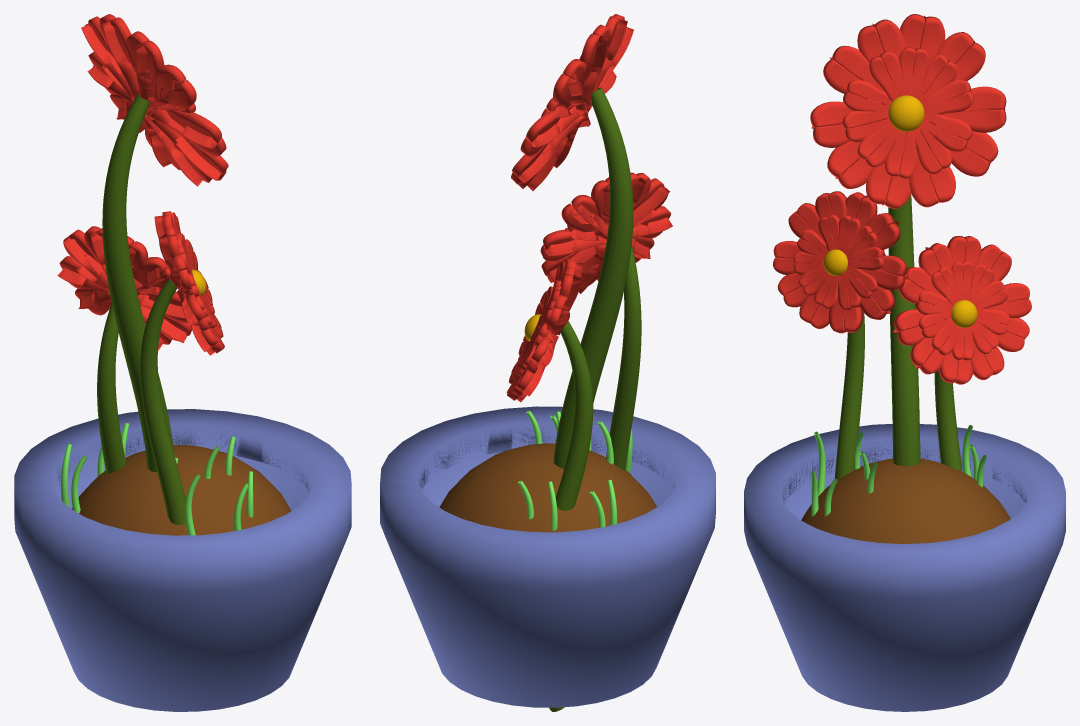
File: Otoño2 1.fbx
3 views of the same model, side by side, from view 1: azimuth 30°, elevation 25°; view 2: azimuth 150°, elevation 25°; view 3: azimuth 270°, elevation 25° (orthographic). The views are drawn at different scales.
Visible parts, largest first — view 1: Sphere.009; view 2: Sphere.009; view 3: Sphere.009.
Part boxes in pixels (left/top/right/bottom): Sphere.009: left=14, top=14, right=351, bottom=711; Sphere.009: left=380, top=14, right=715, bottom=711; Sphere.009: left=744, top=14, right=1065, bottom=711.
Size of the model in its own units: 38.97 by 86.43 by 38.97.
